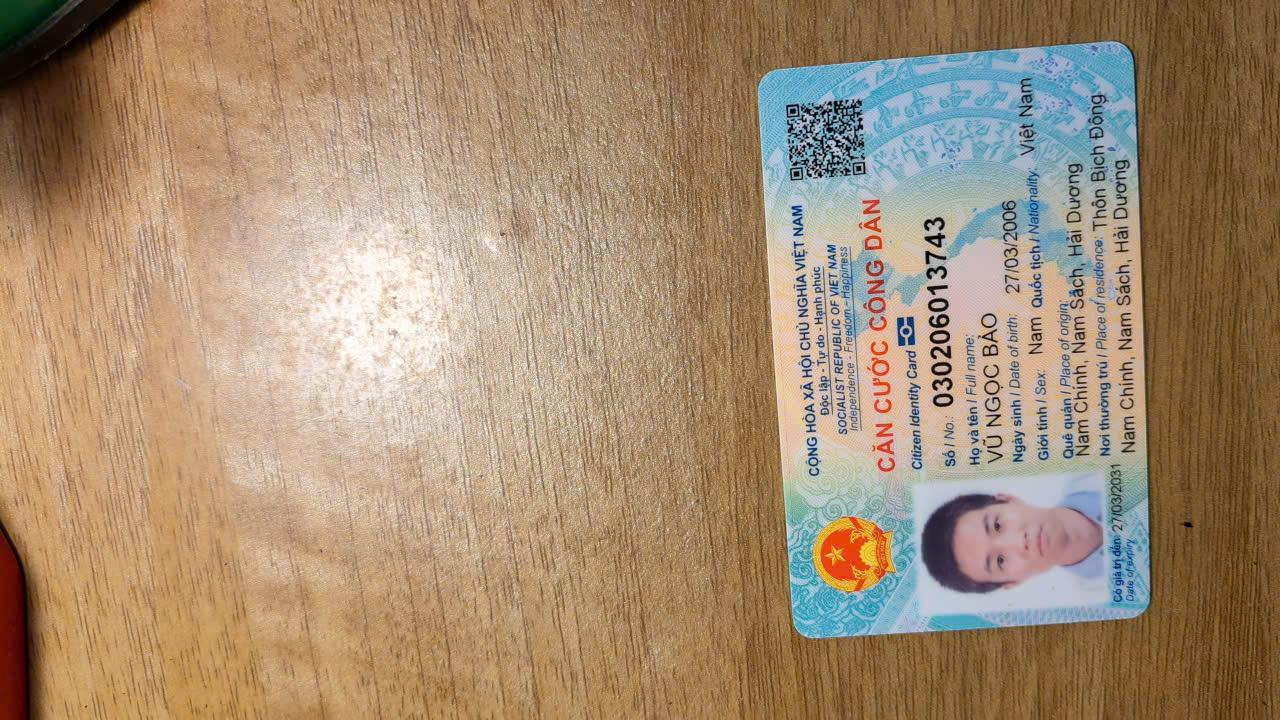cccd: (749, 39, 1160, 650)
